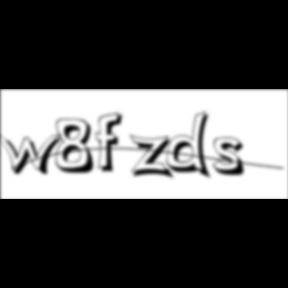8: (57, 117, 102, 176)
d: (167, 110, 217, 182)
f: (96, 111, 128, 175)
s: (214, 137, 252, 179)
w: (0, 132, 70, 178)
z: (130, 134, 178, 182)
